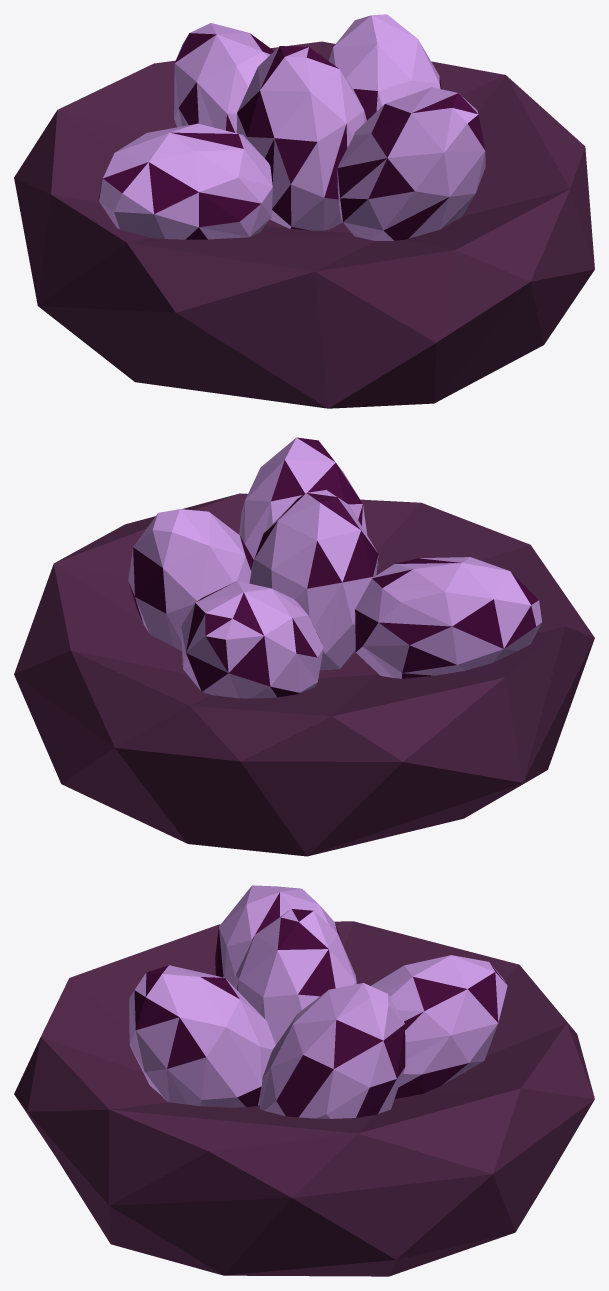
Rendered from Egg Nest.fbx.
3 renders of one model, top to bottom at view 1: azimuth 30°, elevation 25°; view 2: azimuth 150°, elevation 25°; view 3: azimuth 270°, elevation 25°, orthographic. The views are drawn at different scales.
Parts seen in each view (by area): view 1: Icosphere.007; view 2: Icosphere.007; view 3: Icosphere.007.
Boxes of the visible parts, box(x1,y1,x2,y2) form: Icosphere.007: box(14, 14, 594, 408); Icosphere.007: box(14, 437, 594, 856); Icosphere.007: box(14, 885, 594, 1276).
Bounding box in the file's own units: 505 × 276 × 512.
